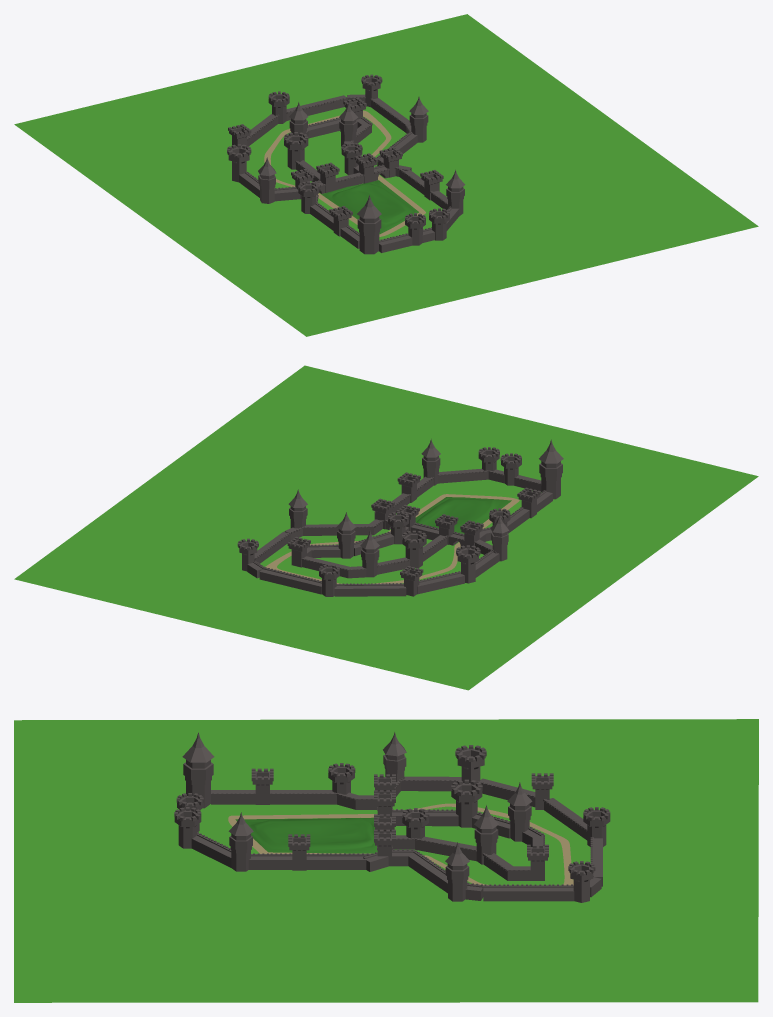
File: CastleTrack 1.fbx
3 views of the same model, one above another, from view 1: azimuth 30°, elevation 25°; view 2: azimuth 150°, elevation 25°; view 3: azimuth 270°, elevation 25° (orthographic). The views are drawn at different scales.
Parts seen in each view (by area): view 1: Grass, Castle, Track; view 2: Grass, Castle, Track; view 3: Grass, Castle, Track.
Boxes of the visible parts, x1,y1,x2,y2 form: Grass: (14, 14, 758, 336); Castle: (227, 74, 465, 254); Track: (264, 110, 425, 236); Grass: (14, 365, 758, 690); Castle: (237, 439, 563, 596); Track: (265, 494, 519, 583); Grass: (14, 719, 758, 1002); Castle: (174, 732, 610, 902); Track: (228, 803, 573, 885).
Bounding box in the file's own units: 901 × 108 × 1000.
